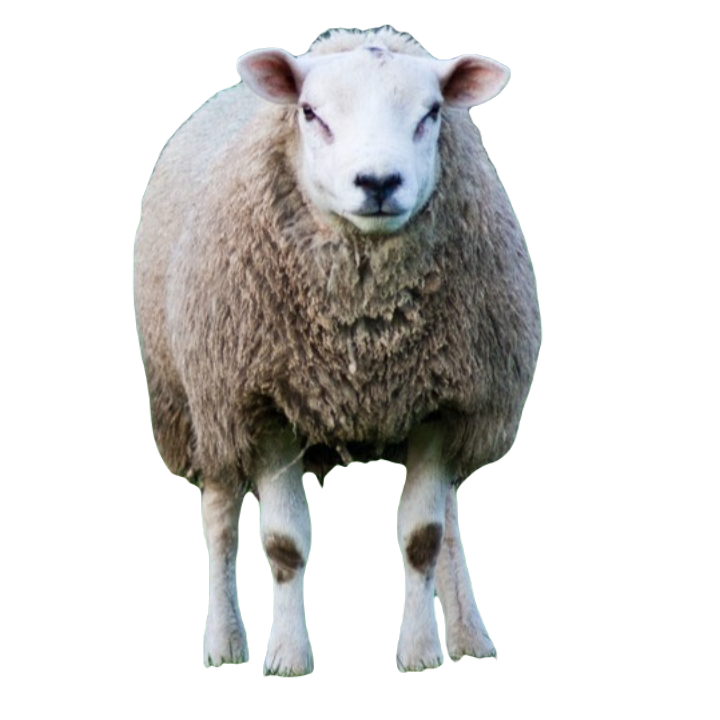Sheep: (129, 20, 545, 681)
